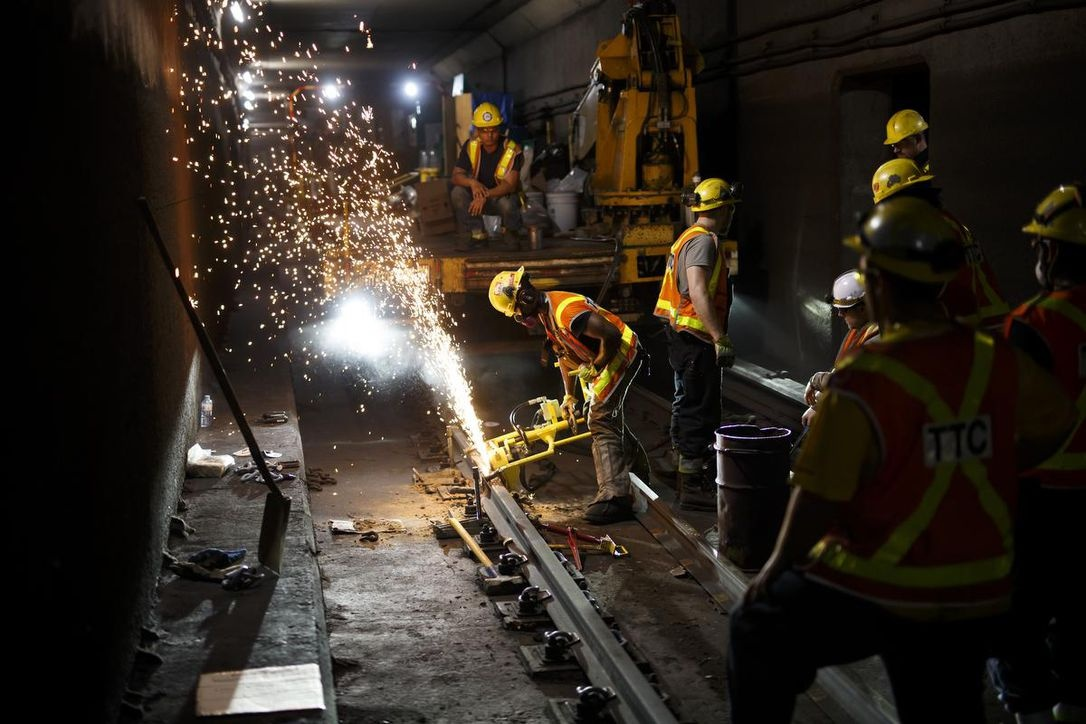white: (826, 267, 870, 330)
yellow: (857, 201, 964, 318), (1022, 185, 1086, 279), (488, 264, 547, 326), (689, 177, 740, 233), (884, 108, 930, 160), (467, 103, 506, 149)
